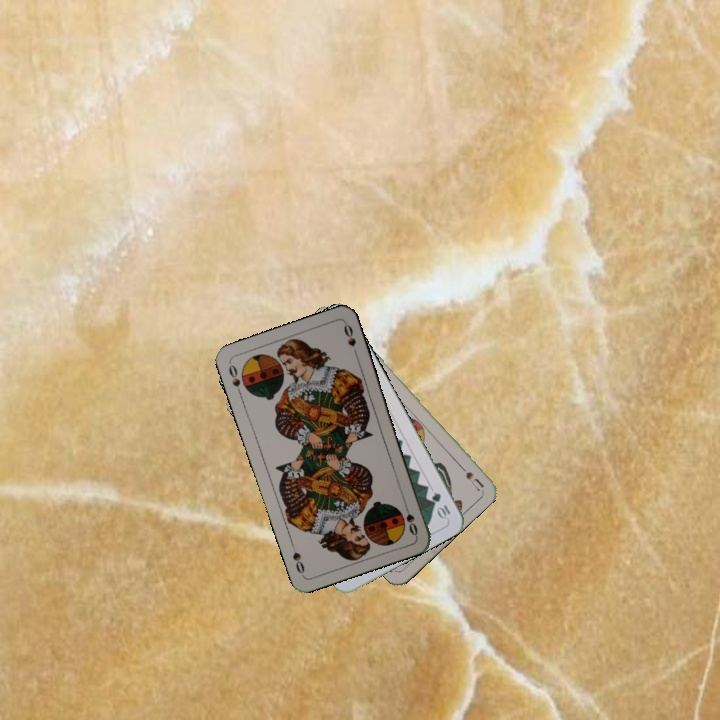G10: (428, 489, 453, 522)
SO: (400, 499, 420, 538), (225, 359, 244, 399)
SU: (453, 458, 486, 493)
